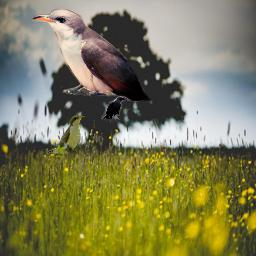Crow: (101, 96, 126, 124)
Cuckoo: (32, 9, 152, 102), (47, 114, 86, 160)
